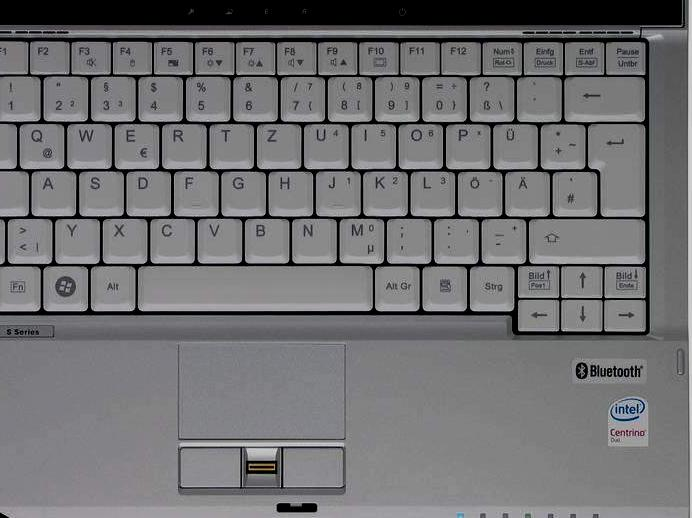0: (420, 73, 466, 120)
1: (1, 73, 38, 119)
2: (41, 73, 87, 120)
3: (88, 73, 134, 120)
4: (136, 73, 181, 120)
5: (183, 73, 229, 120)
6: (231, 73, 276, 120)
7: (279, 73, 325, 120)
8: (326, 73, 372, 121)
9: (373, 73, 419, 120)
a: (30, 167, 75, 214)
accent: (515, 73, 560, 120)
ae: (503, 168, 549, 215)
alt-left: (88, 262, 135, 310)
altgr-right: (373, 262, 420, 310)
b: (242, 214, 288, 261)
c: (148, 215, 195, 261)
caret: (1, 72, 24, 119)
comma: (385, 214, 430, 262)
d: (124, 167, 170, 214)
del: (562, 72, 645, 119)
e: (112, 120, 158, 167)
enter: (586, 121, 644, 215)
f: (172, 167, 217, 215)
g: (219, 168, 264, 214)
h: (266, 168, 312, 214)
hash: (550, 168, 596, 215)
i: (350, 120, 396, 167)
j: (314, 168, 359, 215)
k: (362, 167, 407, 215)
keyboard: (1, 27, 663, 337)
l: (409, 168, 454, 215)
less: (6, 215, 52, 262)
m: (337, 214, 384, 262)
minus: (480, 215, 526, 262)
n: (290, 214, 335, 261)
o: (396, 120, 442, 167)
oe: (456, 169, 502, 215)
p: (444, 120, 490, 168)
plus: (539, 120, 584, 168)
point: (432, 215, 478, 262)
q: (16, 120, 63, 167)
r: (160, 121, 205, 167)
s: (77, 168, 122, 214)
shift-left: (1, 215, 31, 263)
shift-lock: (1, 167, 42, 215)
shift-right: (527, 214, 644, 262)
space: (138, 261, 372, 311)
ss: (467, 73, 513, 120)
strg-left: (1, 262, 26, 311)
strg-right: (468, 262, 515, 311)
t: (208, 120, 252, 167)
tab: (1, 119, 36, 167)
u: (301, 120, 348, 168)
ue: (491, 120, 537, 168)
v: (196, 215, 241, 262)
w: (65, 119, 110, 167)
x: (101, 214, 147, 262)
y: (54, 215, 99, 262)
z: (254, 120, 300, 167)
